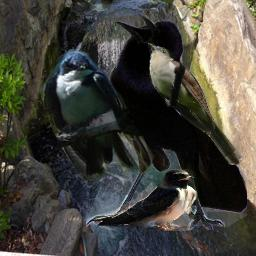Crow: (86, 13, 247, 230)
Cuckoo: (148, 43, 242, 165)
Swallow: (40, 49, 157, 189), (92, 169, 198, 231)
